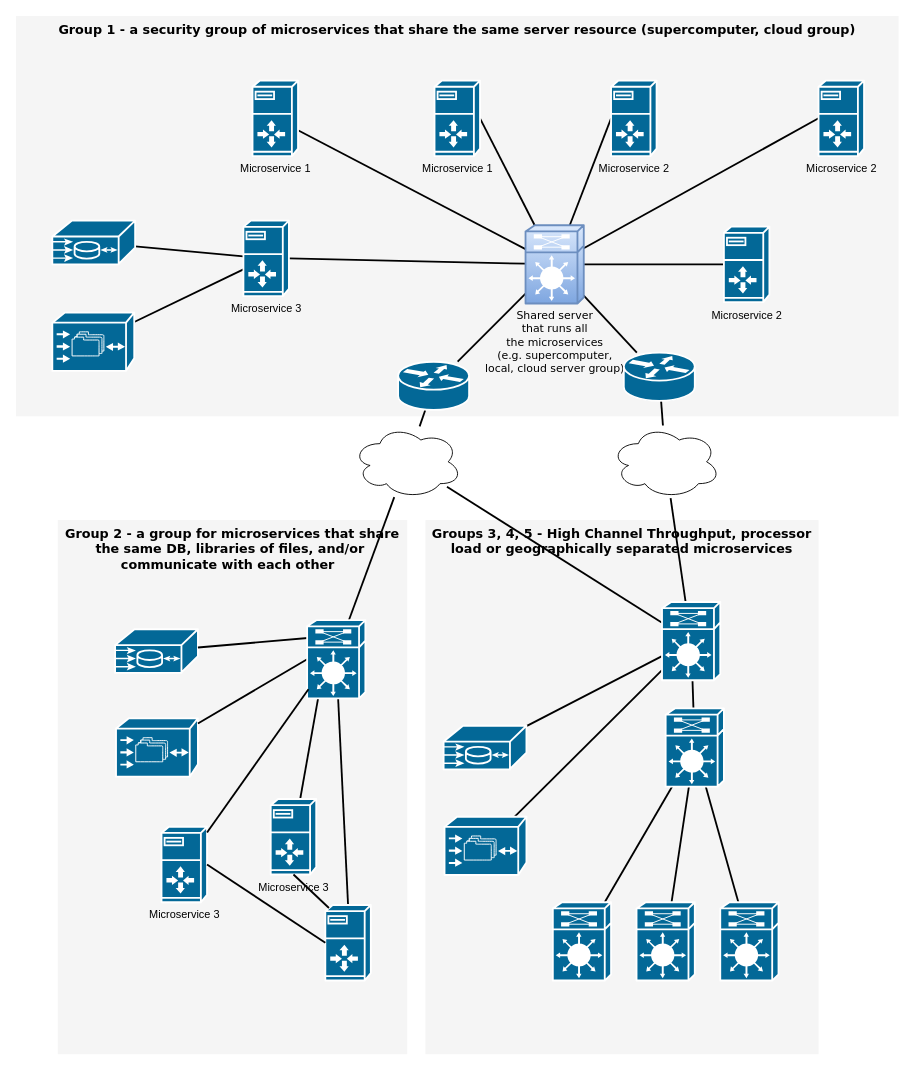
Image size: 914x1069. Some labels were removed from this diagram. The centre of each missing label's shape, as x and y in pixels:
Cloud: pixel 665 461
LAN: pixel 407 461
Microservice 4: pixel 347 942
